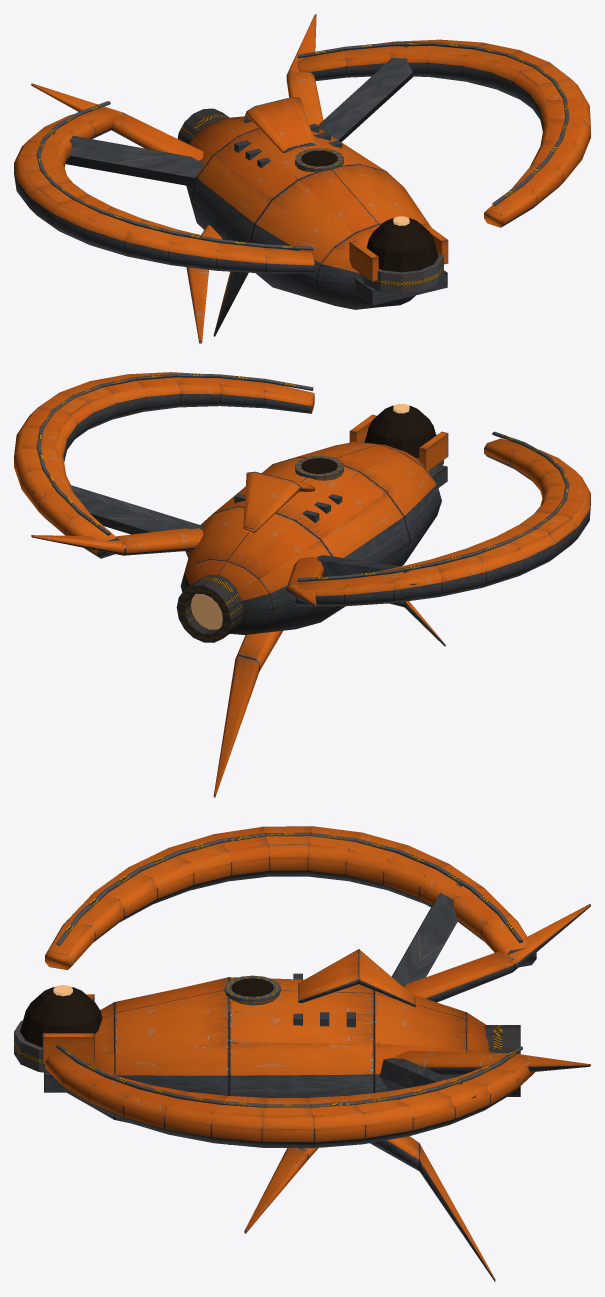
The model's file is pioneer-saturn-l10-shield.glb.
The picture shows the model from 3 angles, top to bottom: view 1: azimuth 30°, elevation 25°; view 2: azimuth 150°, elevation 25°; view 3: azimuth 270°, elevation 25°; orthographic projection. The views are drawn at different scales.
Parts seen in each view (by area): view 1: Drone; view 2: Drone; view 3: Drone.
Part boxes in pixels (x1,y1,x2,y2): Drone: [14, 14, 590, 343]; Drone: [14, 372, 590, 797]; Drone: [14, 826, 590, 1281].
Bounding box in the file's own units: 1.85 × 0.9361 × 1.52.
Materials: 3 (3 with a texture image).
